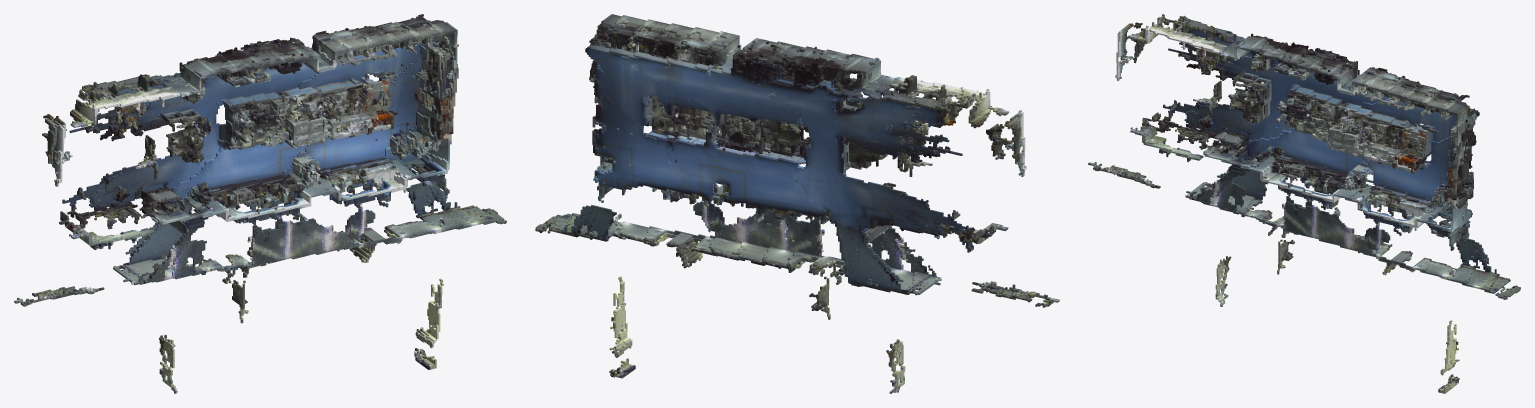
Rendered from geomap_colour_noroof.obj.
3 renders of one model, left to right at view 1: azimuth 30°, elevation 25°; view 2: azimuth 150°, elevation 25°; view 3: azimuth 330°, elevation 25°, orthographic. The views are drawn at different scales.
Visible parts, largest first — view 1: mesh; view 2: mesh; view 3: mesh.
Part boxes in pixels (x1,y1,x2,y2): mesh: (14,14,506,393); mesh: (535,14,1059,393); mesh: (1088,14,1520,393).
Size of the model in its own units: 30.39 by 20.93 by 3.18.
Materials: 1 (1 with a texture image).
